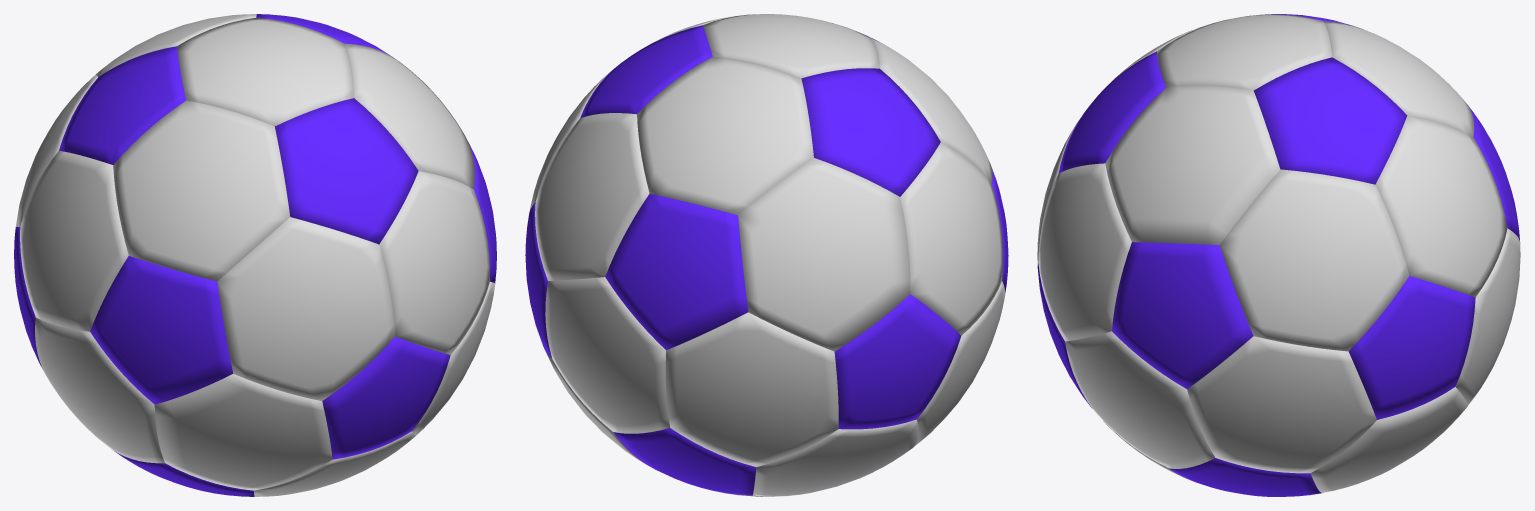
Rendered from animball.glb.
The picture shows the model from 3 angles, left to right: view 1: azimuth 30°, elevation 25°; view 2: azimuth 150°, elevation 25°; view 3: azimuth 270°, elevation 25°; orthographic projection.
Visible parts, largest first — view 1: Solid; view 2: Solid; view 3: Solid.
Part boxes in pixels (x1,y1,x2,y2): Solid: (14, 14, 496, 496); Solid: (525, 14, 1008, 496); Solid: (1037, 14, 1520, 496).
Size of the model in its own units: 168 by 168 by 168.
